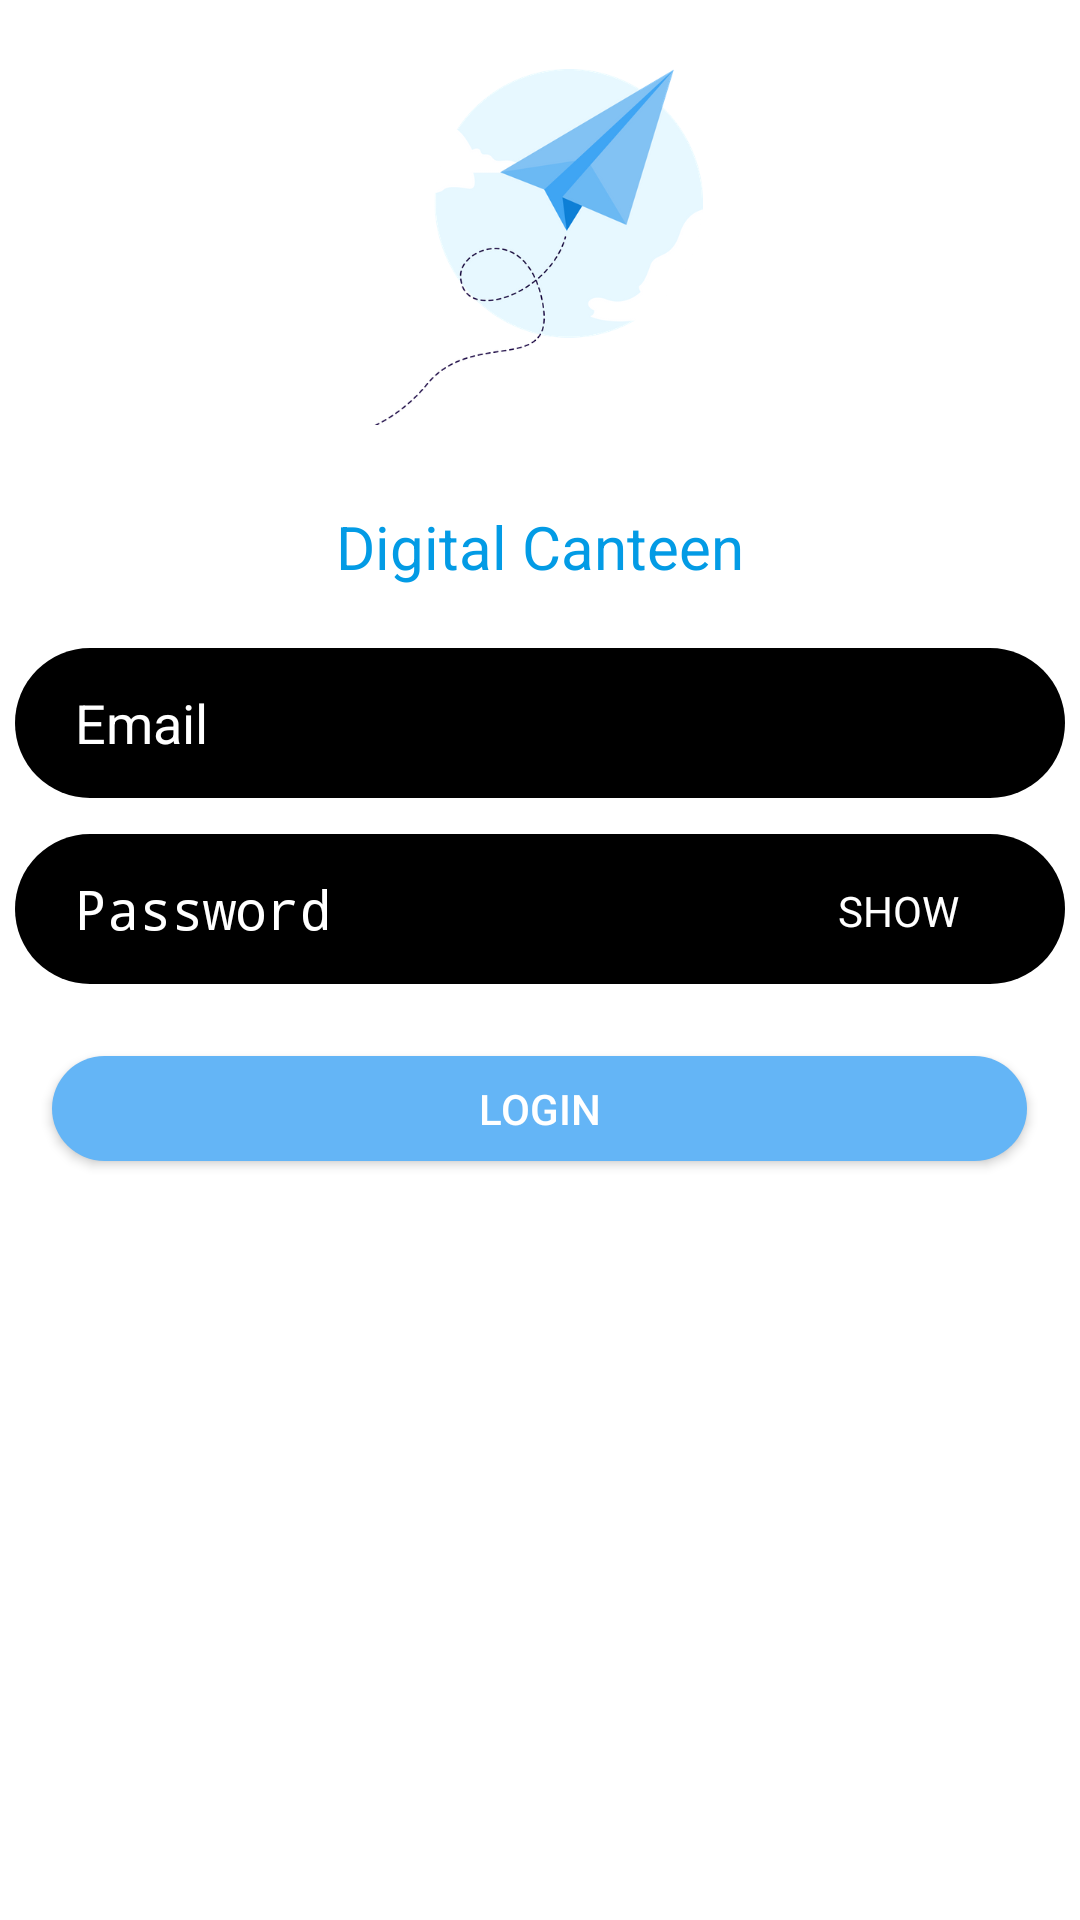

Icons on this 1080*1920 Android screen, each with its box as bbox=[x1, y1, x2, y2]:
airoplane: bbox=[375, 70, 703, 425]
